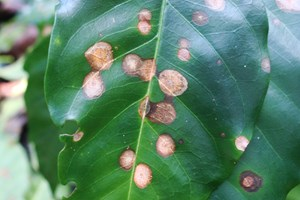ojo de gallo: (73, 4, 198, 191)
